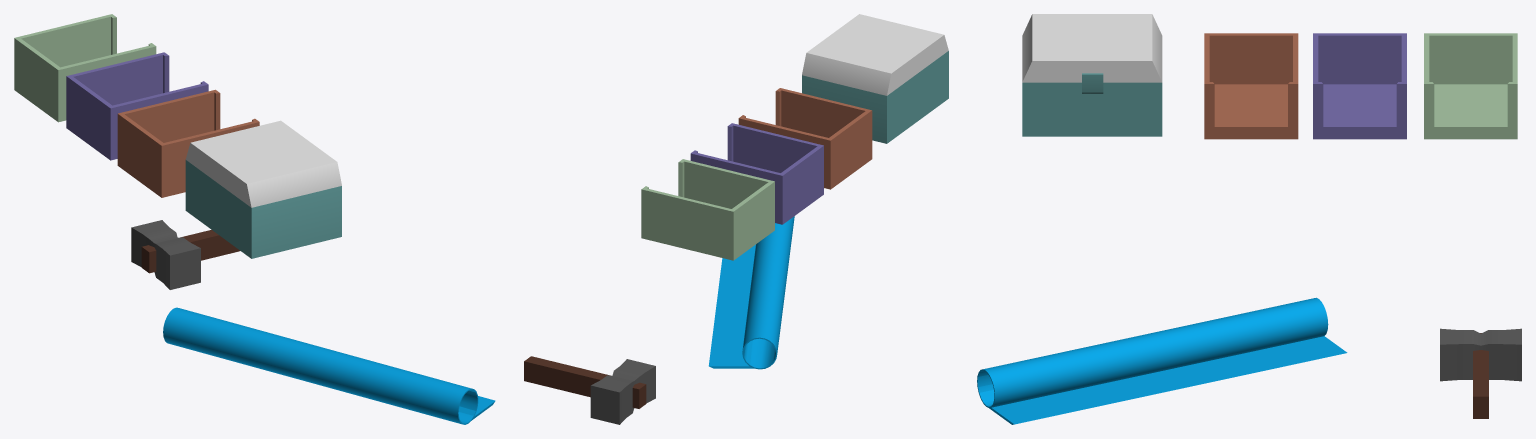
The model's file is ProductosMesa.fbx.
3 renders of one model, left to right at view 1: azimuth 30°, elevation 25°; view 2: azimuth 150°, elevation 25°; view 3: azimuth 270°, elevation 25°, orthographic. The views are drawn at different scales.
Parts seen in each view (by area): view 1: pCylinder4; view 2: pCylinder4; view 3: pCylinder4.
Part boxes in pixels (x1,y1,x2,y2): pCylinder4: [14, 14, 495, 424]; pCylinder4: [524, 14, 948, 424]; pCylinder4: [977, 14, 1521, 424].
Bounding box in the file's own units: 2.14 × 2.3 × 3.89.
